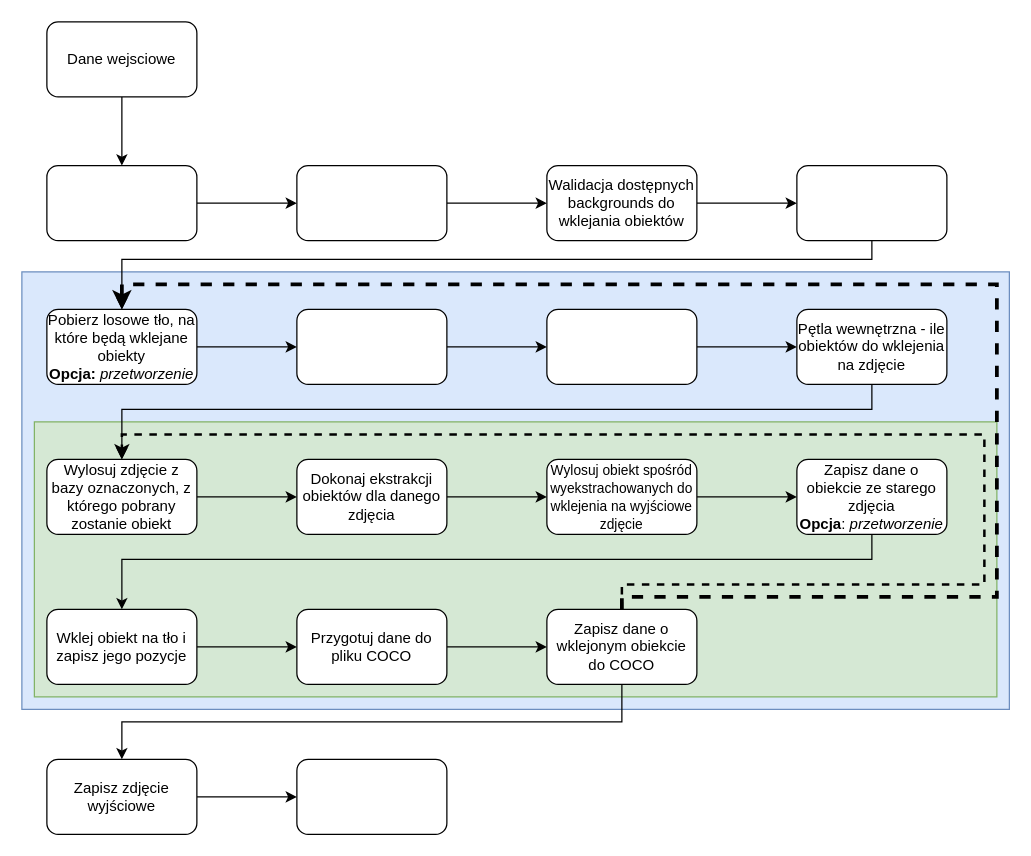
Some shapes in this 1031 by 856 pixel diagram are drawn without their labels. The shapes that lost their labels are listed below. From the top down, each one's box as (x1, y1, x2, y2) in pixels, then its label:
(46, 164, 197, 241): Załadowanie danych wejściowych z oznaczonych obiektów
(296, 164, 447, 241): Inicjalizacja wyjściowego pliku COCO
(796, 164, 947, 241): Pętla główna - ilość wygenerowanych wyjściowych zdjęć
(296, 308, 447, 384): Stwórz nazwę wyjściową dla zdjęcia i dodaj record do wyjściowego COCO
(546, 308, 697, 384): Wylosuj ile obiektów ma znaleźć się na obrazie wyjściowym
(296, 758, 447, 834): Zapisz plik COCO
